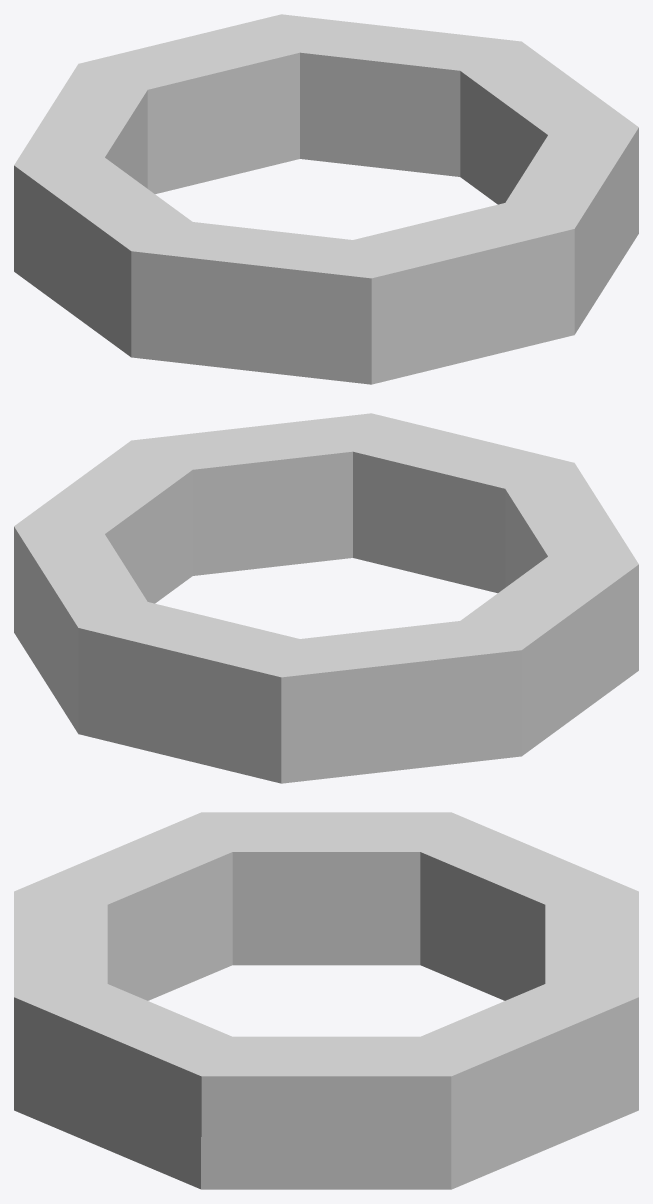
The picture shows the model from 3 angles, top to bottom: view 1: azimuth 30°, elevation 25°; view 2: azimuth 150°, elevation 25°; view 3: azimuth 270°, elevation 25°; orthographic projection. The views are drawn at different scales.
Visible parts, largest first — view 1: Circle; view 2: Circle; view 3: Circle.
Part boxes in pixels (left/top/right/bottom): Circle: left=14, top=14, right=638, bottom=384; Circle: left=14, top=413, right=638, bottom=783; Circle: left=14, top=812, right=638, bottom=1189.
Bounding box in the file's own units: 62.5 × 12.5 × 62.5.
Materials: 1 (1 with a texture image).
